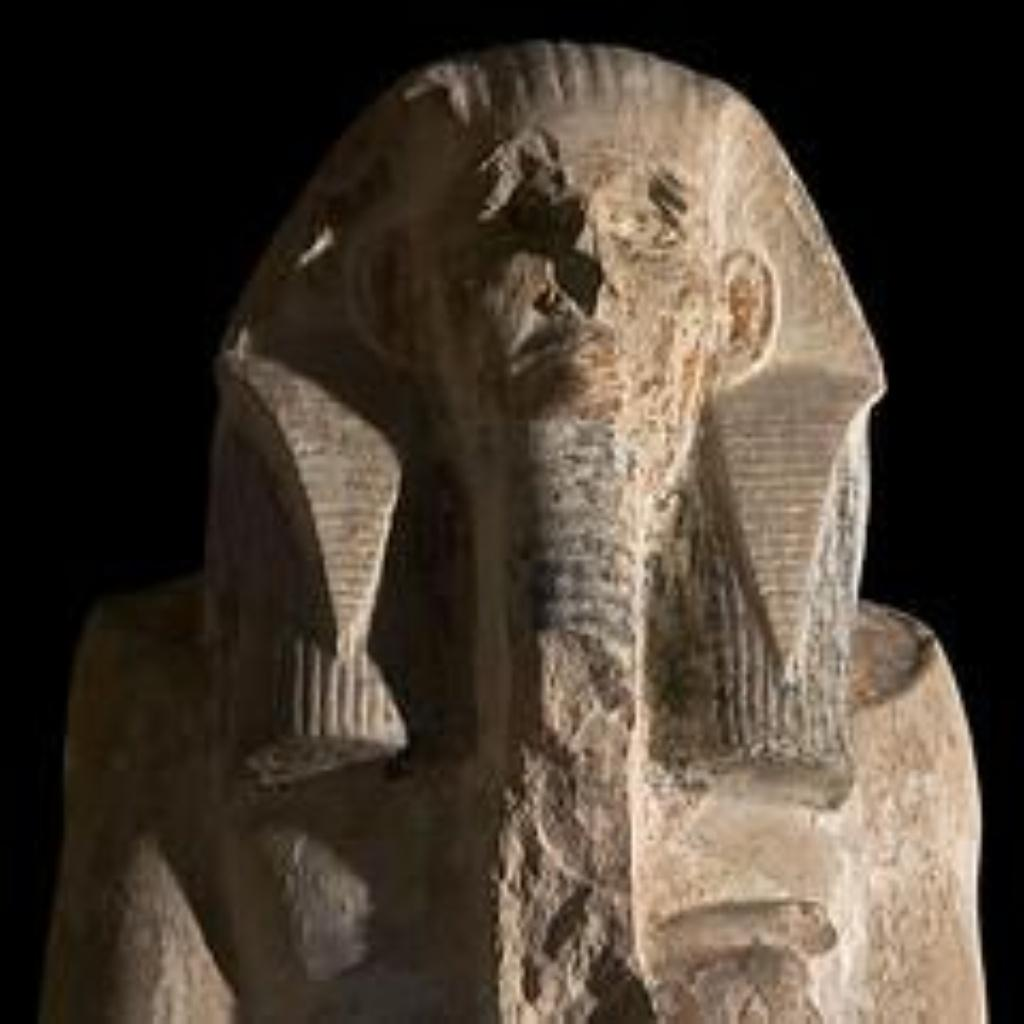Statue of King Zoser: (17, 30, 1011, 1020)
